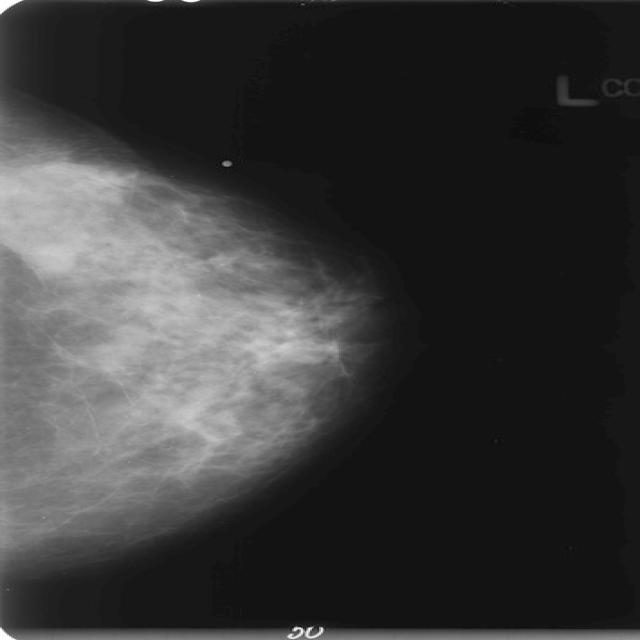tumour: (27, 243, 74, 273)
